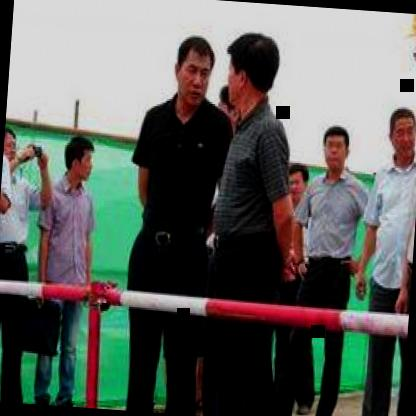head: (220, 26, 284, 122), (166, 26, 221, 115), (382, 98, 416, 163), (316, 120, 355, 174), (61, 132, 99, 186), (285, 158, 311, 202), (2, 124, 22, 170)
helmet: (402, 13, 416, 95)
